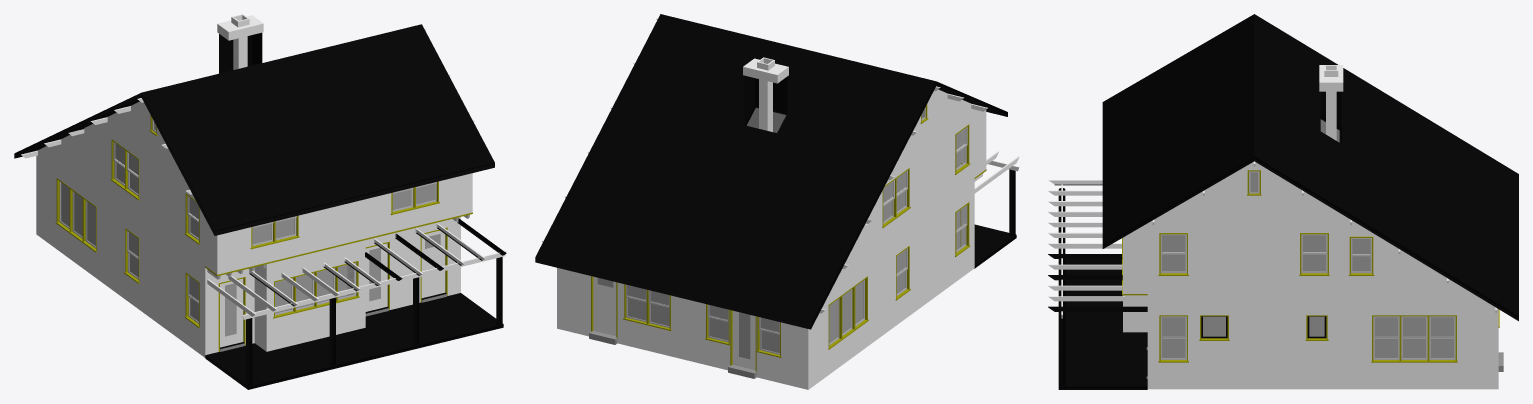
File: Single house.fbx
3 views of the same model, side by side, from view 1: azimuth 30°, elevation 25°; view 2: azimuth 150°, elevation 25°; view 3: azimuth 270°, elevation 25° (orthographic). The views are drawn at different scales.
Visible parts, largest first — view 1: polySurface645, polySurface741, polySurface610, polySurface914, pCube1, polySurface999, polySurface631, polySurface630, polySurface889, polySurface979, polySurface646, polySurface824 (+11 smaller); view 2: polySurface645, polySurface741, polySurface610, pCube1, polySurface631, polySurface979, polySurface992, polySurface914, polySurface646, polySurface648, polySurface1024, polySurface886 (+9 smaller); view 3: polySurface645, polySurface741, polySurface610, polySurface914, pCube1, polySurface632, polySurface999, polySurface633, polySurface737, polySurface900, polySurface648, polySurface1003 (+9 smaller).
Part boxes in pixels (bbox=[...]): polySurface645: bbox=[14, 24, 494, 232]; polySurface741: bbox=[36, 152, 460, 352]; polySurface610: bbox=[86, 121, 472, 274]; polySurface914: bbox=[205, 293, 503, 389]; pCube1: bbox=[61, 121, 440, 335]; polySurface999: bbox=[207, 223, 506, 319]; polySurface631: bbox=[107, 101, 182, 175]; polySurface630: bbox=[37, 127, 86, 186]; polySurface889: bbox=[421, 230, 445, 298]; polySurface979: bbox=[36, 229, 218, 357]; polySurface646: bbox=[219, 32, 262, 73]; polySurface824: bbox=[220, 278, 243, 347]; polySurface645: bbox=[535, 14, 1007, 326]; polySurface741: bbox=[557, 186, 974, 384]; polySurface610: bbox=[857, 108, 986, 271]; pCube1: bbox=[598, 108, 960, 358]; polySurface631: bbox=[897, 89, 971, 161]; polySurface979: bbox=[756, 263, 974, 389]; polySurface992: bbox=[593, 276, 616, 335]; polySurface914: bbox=[974, 224, 1016, 268]; polySurface646: bbox=[744, 75, 787, 124]; polySurface648: bbox=[757, 57, 774, 131]; polySurface1024: bbox=[732, 310, 755, 370]; polySurface886: bbox=[828, 276, 868, 349]; polySurface645: bbox=[1102, 14, 1518, 318]; polySurface741: bbox=[1123, 295, 1498, 383]; polySurface610: bbox=[1123, 217, 1394, 302]; polySurface914: bbox=[1058, 259, 1147, 389]; pCube1: bbox=[1162, 119, 1453, 357]; polySurface632: bbox=[1158, 162, 1346, 217]; polySurface999: bbox=[1048, 180, 1147, 318]; polySurface633: bbox=[1394, 246, 1487, 302]; polySurface737: bbox=[1147, 383, 1498, 389]; polySurface900: bbox=[1371, 315, 1457, 362]; polySurface648: bbox=[1324, 65, 1338, 140]; polySurface1003: bbox=[1048, 306, 1147, 311].
Size of the model in its own units: 1067 by 868 by 1452.
